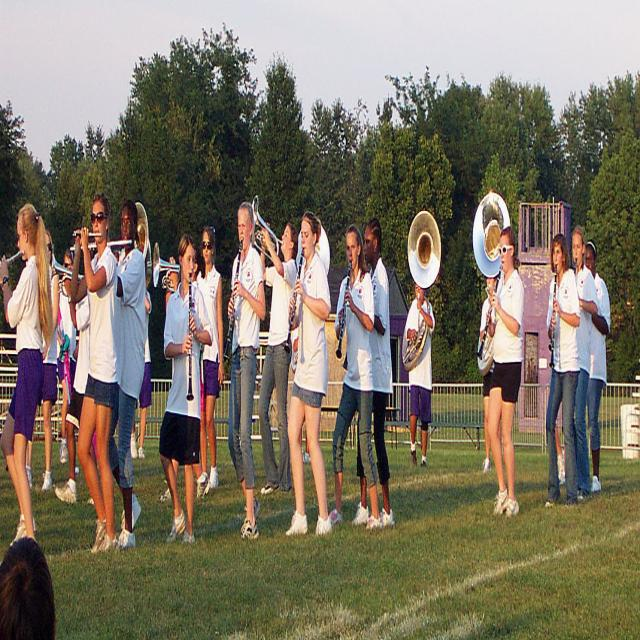clarinet: (223, 236, 247, 362), (279, 245, 304, 358), (478, 261, 503, 360), (336, 263, 354, 358), (186, 271, 197, 404), (548, 262, 560, 369)
